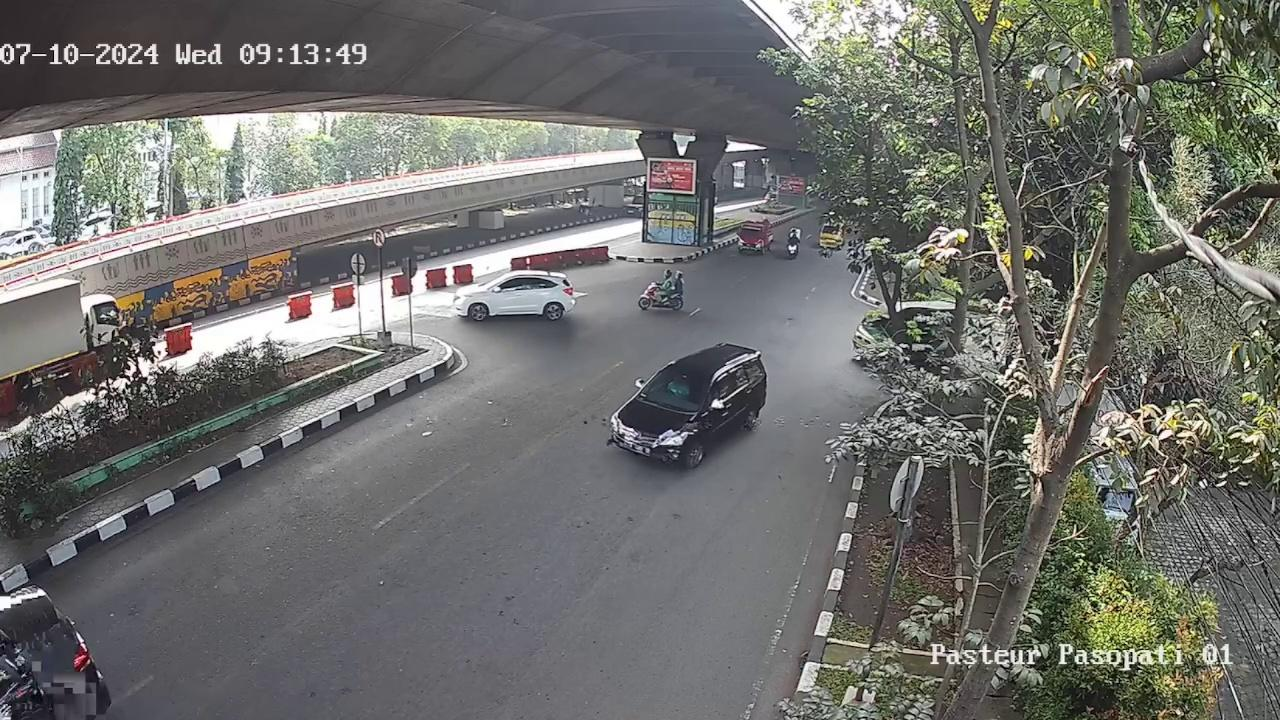tidak-pakai: (668, 373, 692, 400)
windshield: (640, 361, 715, 413)
